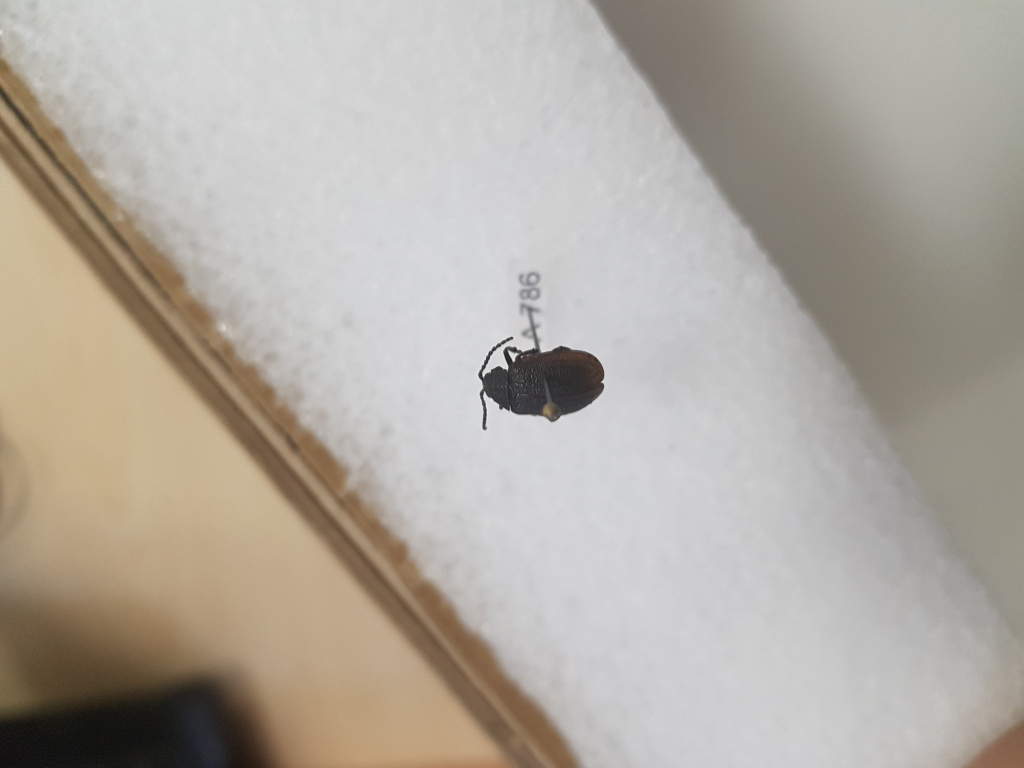Galeruca_tanaceti: (478, 333, 606, 434)
